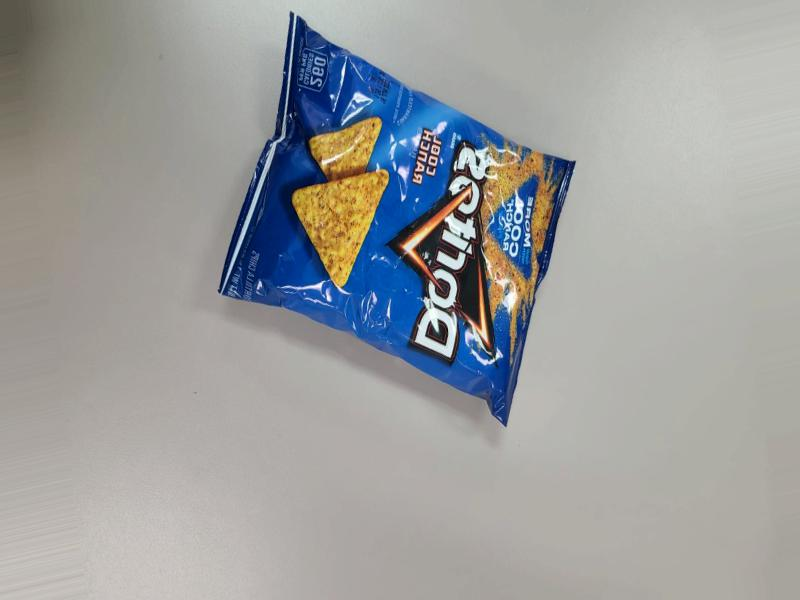doritos: (232, 146, 611, 482)
